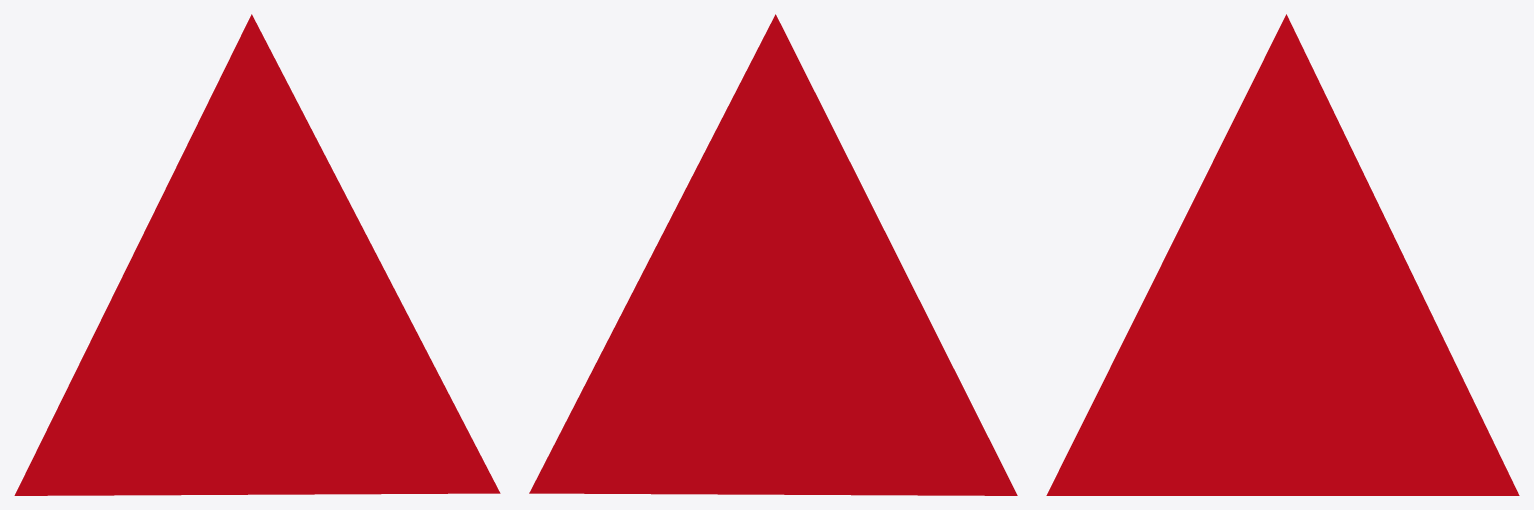
Rendered from pyramide.fbx.
3 views of the same model, side by side, from view 1: azimuth 30°, elevation 25°; view 2: azimuth 150°, elevation 25°; view 3: azimuth 270°, elevation 25° (orthographic).
Visible parts, largest first — view 1: Cube; view 2: Cube; view 3: Cube.
Boxes of the visible parts, x1,y1,x2,y2 form: Cube: (14, 14, 500, 495); Cube: (529, 14, 1017, 495); Cube: (1046, 14, 1519, 495).
Bounding box in the file's own units: 178 × 196 × 200.
